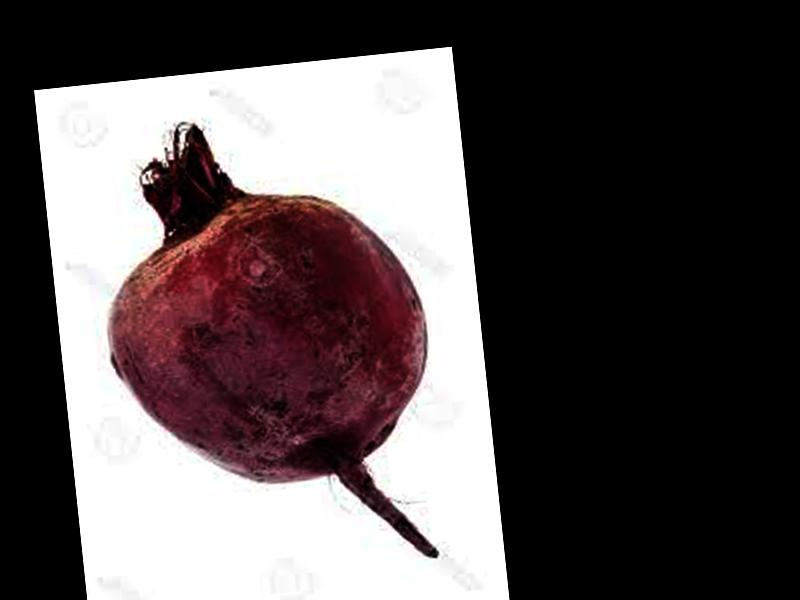Beet: (91, 103, 447, 583)
